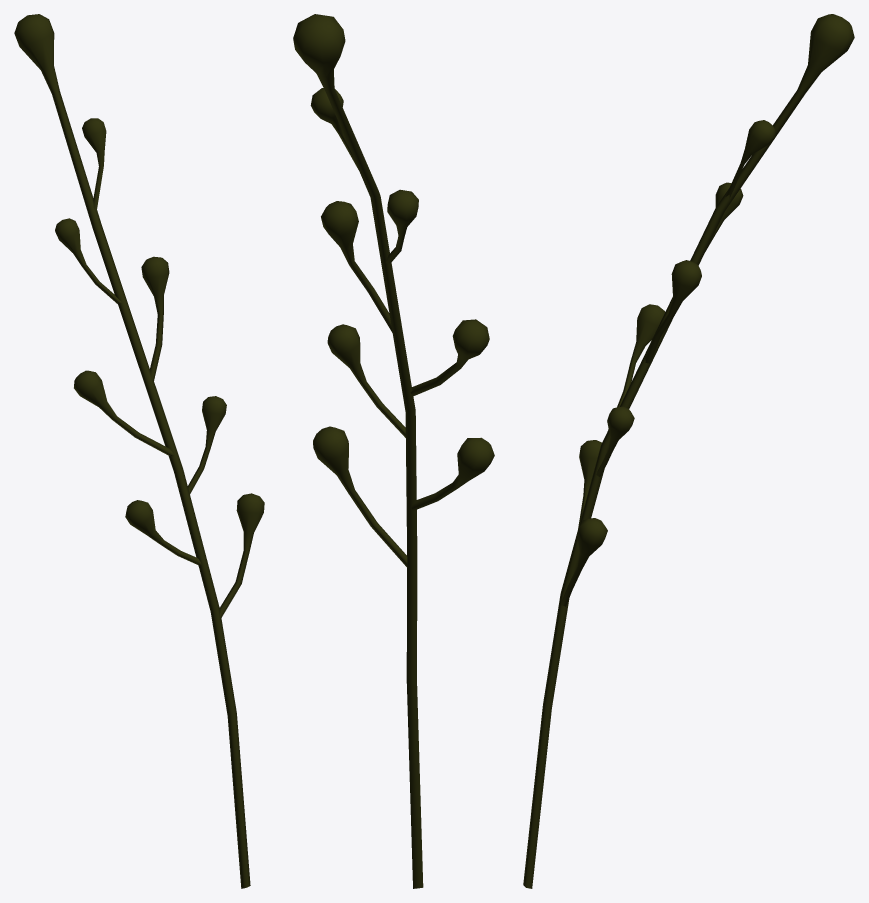
Rendered from SM_ocean_Kelp_leaf_05.fbx.
3 renders of one model, left to right at view 1: azimuth 30°, elevation 25°; view 2: azimuth 150°, elevation 25°; view 3: azimuth 270°, elevation 25°, orthographic. The views are drawn at different scales.
Parts seen in each view (by area): view 1: SM_ocean_Kelp_leaf_05_LOD0; view 2: SM_ocean_Kelp_leaf_05_LOD0; view 3: SM_ocean_Kelp_leaf_05_LOD0.
Boxes of the visible parts, x1,y1,x2,y2 form: SM_ocean_Kelp_leaf_05_LOD0: (14, 14, 264, 888); SM_ocean_Kelp_leaf_05_LOD0: (293, 14, 494, 888); SM_ocean_Kelp_leaf_05_LOD0: (523, 14, 854, 888).
Size of what is drawn, in the model's own units: 31.46 by 53.11 by 148.
